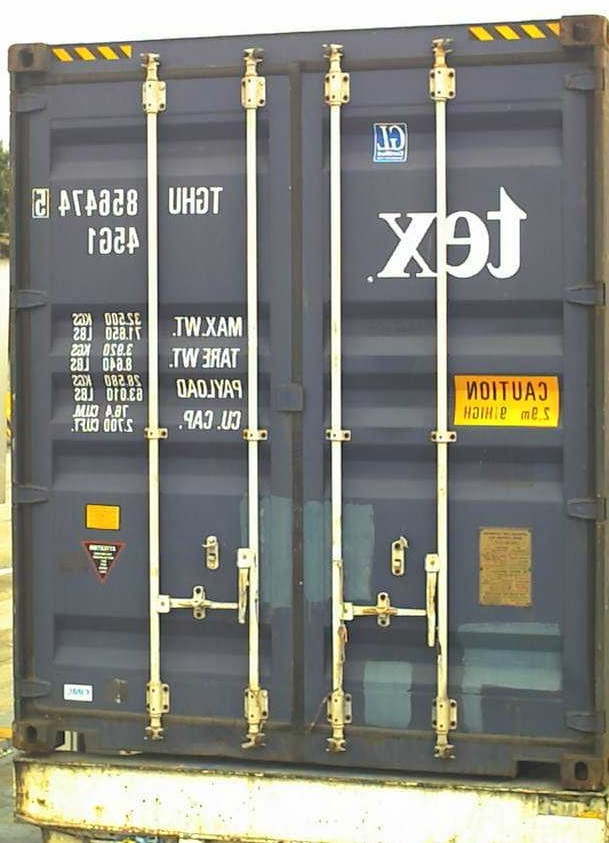container_door: (9, 11, 602, 793)
